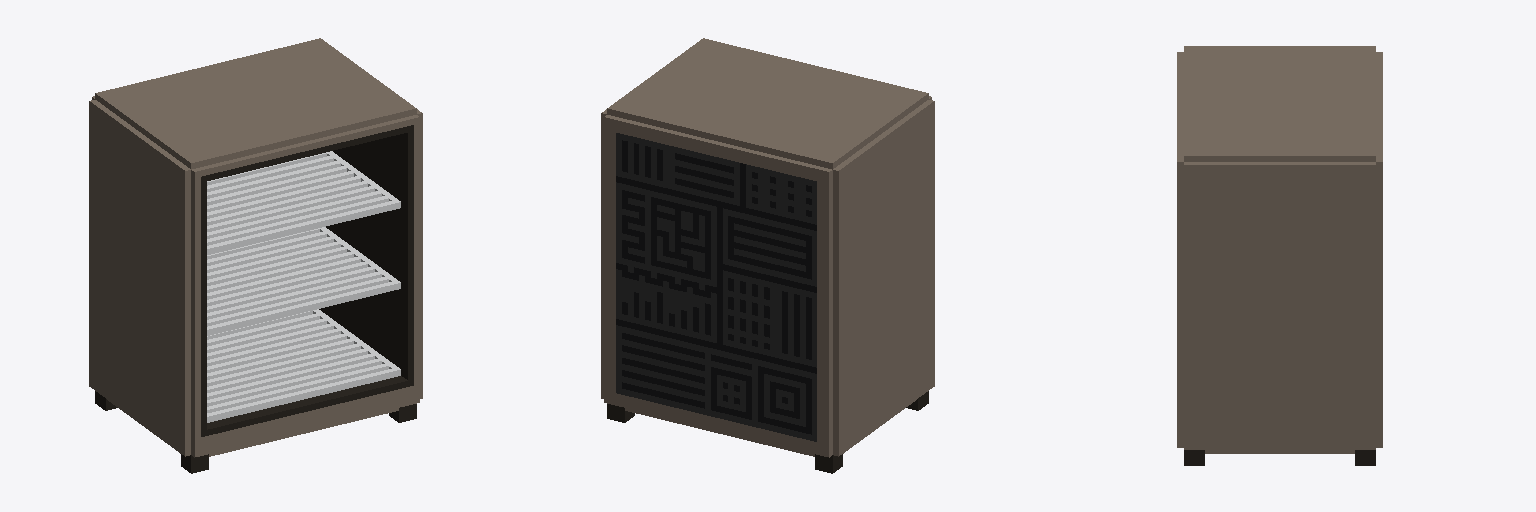
The picture shows the model from 3 angles: view 1: azimuth 30°, elevation 25°; view 2: azimuth 150°, elevation 25°; view 3: azimuth 270°, elevation 25°; orthographic projection.
Parts seen in each view (by area): view 1: object 1; view 2: object 1; view 3: object 1.
Part boxes in pixels (x1,y1,x2,y2): object 1: (89,38,422,473); object 1: (601,38,934,473); object 1: (1177,46,1382,465).
Size of the model in its own units: 4 by 5 by 3.
1 materials, 1 textured.